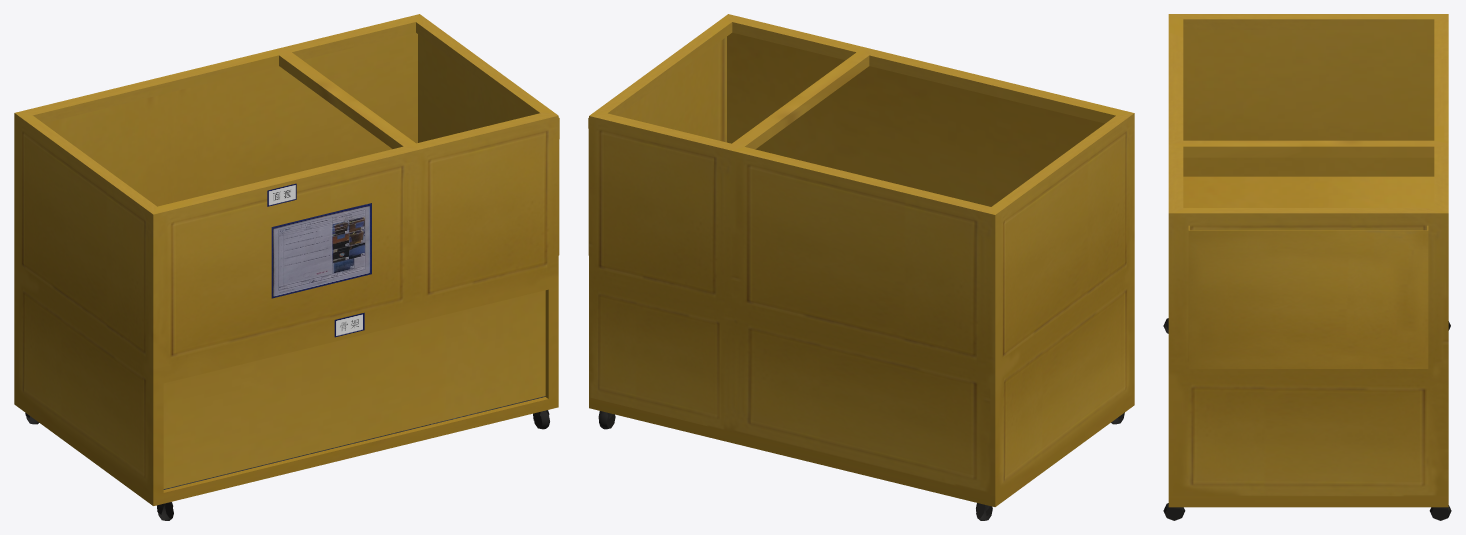
Rendered from gujia.FBX.
3 renders of one model, left to right at view 1: azimuth 30°, elevation 25°; view 2: azimuth 150°, elevation 25°; view 3: azimuth 270°, elevation 25°, orthographic.
Visible parts, largest first — view 1: YF_Model_gujia; view 2: YF_Model_gujia; view 3: YF_Model_gujia.
Part boxes in pixels (bbox=[...]): YF_Model_gujia: bbox=[14, 14, 559, 520]; YF_Model_gujia: bbox=[588, 14, 1134, 520]; YF_Model_gujia: bbox=[1163, 14, 1451, 520].
Size of the model in its own units: 164 by 118 by 97.78.
1 material, 1 textured.
